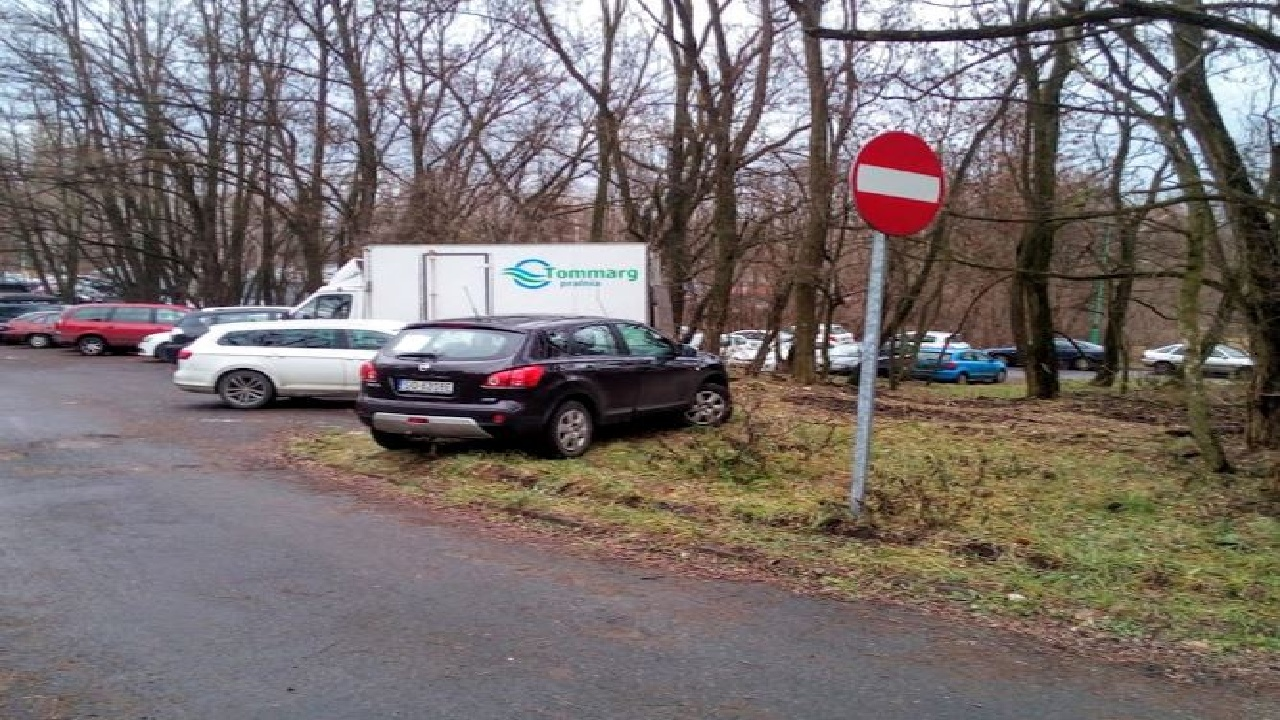B2: (846, 127, 957, 240)
